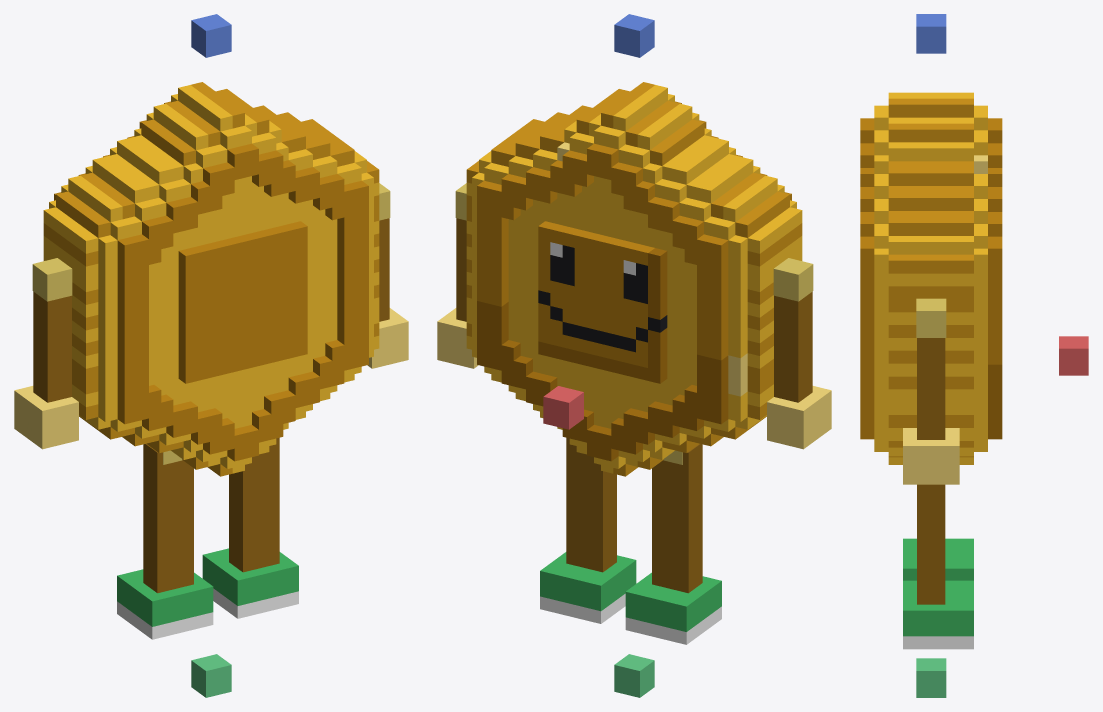
Rendered from RobuxinoMonetino.glb.
3 views of the same model, side by side, from view 1: azimuth 30°, elevation 25°; view 2: azimuth 150°, elevation 25°; view 3: azimuth 270°, elevation 25° (orthographic).
Visible parts, largest first — view 1: RobuxinoMonetino_Body, RobuxinoMonetino_Leg4, RobuxinoMonetino_Leg3, RobuxinoMonetino_Arm2, RobuxinoMonetino_Arm1, RobuxinoMonetino_Top, RobuxinoMonetino_Built, RobuxinoMonetino_Pivot2; view 2: RobuxinoMonetino_Body, RobuxinoMonetino_Leg4, RobuxinoMonetino_Leg3, RobuxinoMonetino_Arm2, RobuxinoMonetino_Arm1, RobuxinoMonetino_Front, RobuxinoMonetino_Top, RobuxinoMonetino_Built, RobuxinoMonetino_Pivot2; view 3: RobuxinoMonetino_Body, RobuxinoMonetino_Leg3, RobuxinoMonetino_Arm1, RobuxinoMonetino_Leg4, RobuxinoMonetino_Top, RobuxinoMonetino_Built, RobuxinoMonetino_Pivot1, RobuxinoMonetino_Front.
Part boxes in pixels (<box>): RobuxinoMonetino_Body: <box>43,82,379,476</box>; RobuxinoMonetino_Leg4: <box>117,444,213,639</box>; RobuxinoMonetino_Leg3: <box>202,437,298,618</box>; RobuxinoMonetino_Arm2: <box>14,291,78,449</box>; RobuxinoMonetino_Arm1: <box>367,218,408,368</box>; RobuxinoMonetino_Top: <box>191,14,231,57</box>; RobuxinoMonetino_Built: <box>191,654,231,697</box>; RobuxinoMonetino_Pivot2: <box>32,258,72,301</box>; RobuxinoMonetino_Body: <box>466,82,802,476</box>; RobuxinoMonetino_Leg4: <box>625,444,721,644</box>; RobuxinoMonetino_Leg3: <box>540,437,636,623</box>; RobuxinoMonetino_Arm2: <box>767,291,831,449</box>; RobuxinoMonetino_Arm1: <box>437,218,478,368</box>; RobuxinoMonetino_Front: <box>543,386,583,429</box>; RobuxinoMonetino_Top: <box>614,14,654,57</box>; RobuxinoMonetino_Built: <box>614,654,654,697</box>; RobuxinoMonetino_Pivot2: <box>773,258,813,301</box>; RobuxinoMonetino_Body: <box>860,92,1002,464</box>; RobuxinoMonetino_Leg3: <box>903,484,973,649</box>; RobuxinoMonetino_Arm1: <box>903,338,959,484</box>; RobuxinoMonetino_Leg4: <box>903,538,973,580</box>; RobuxinoMonetino_Top: <box>916,14,946,53</box>; RobuxinoMonetino_Built: <box>916,658,946,697</box>; RobuxinoMonetino_Pivot1: <box>916,298,946,337</box>; RobuxinoMonetino_Front: <box>1059,336,1088,375</box>.
Bounding box in the file's own units: 3.57 × 6.21 × 1.92.
1 material, 1 textured.
